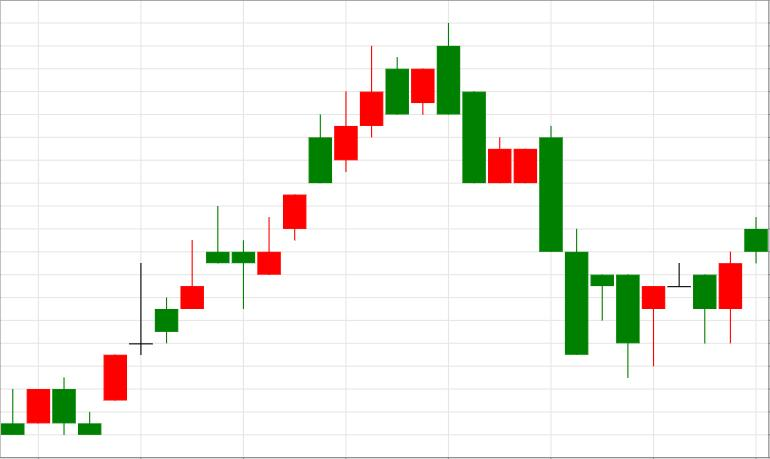bearish_engulfing_fall: (258, 23, 460, 274)
shooting_star_fall: (258, 45, 384, 274)
